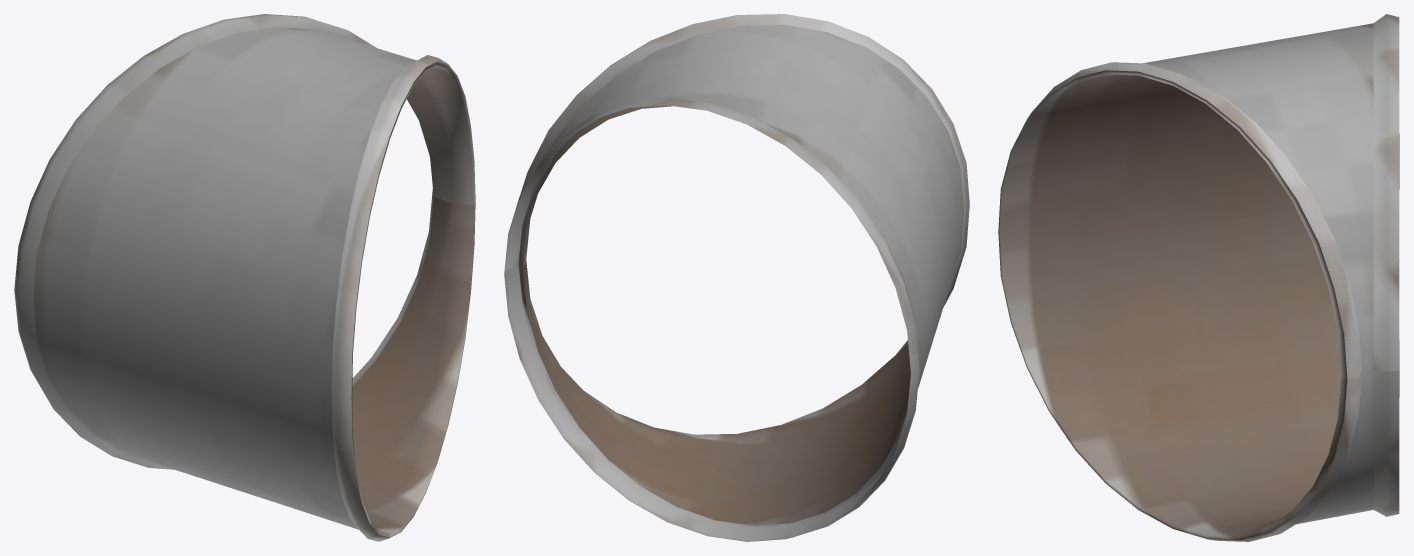
Rendered from ductTurn.fbx.
The picture shows the model from 3 angles, left to right: view 1: azimuth 30°, elevation 25°; view 2: azimuth 150°, elevation 25°; view 3: azimuth 270°, elevation 25°; orthographic projection. The views are drawn at different scales.
Visible parts, largest first — view 1: ductTurn; view 2: ductTurn; view 3: ductTurn.
Part boxes in pixels (x1,y1,x2,y2): ductTurn: (14, 14, 475, 541); ductTurn: (504, 14, 969, 541); ductTurn: (998, 14, 1399, 541).
Bounding box in the file's own units: 0.2175 × 0.2824 × 0.2729.
